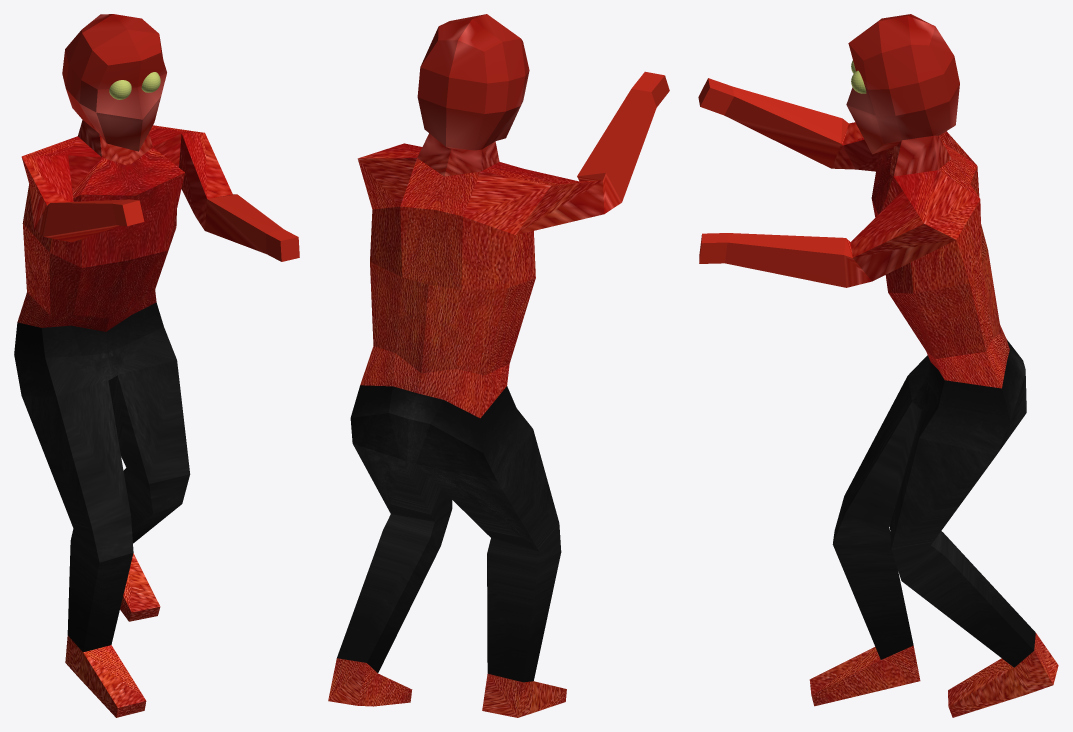
The model's file is laySheary_000007.obj.
3 views of the same model, side by side, from view 1: azimuth 30°, elevation 25°; view 2: azimuth 150°, elevation 25°; view 3: azimuth 270°, elevation 25° (orthographic). The views are drawn at different scales.
Parts seen in each view (by area): view 1: Cube; view 2: Cube; view 3: Cube.
Part boxes in pixels (x1,y1,x2,y2): Cube: (14, 14, 299, 717); Cube: (328, 14, 669, 717); Cube: (698, 14, 1058, 717).
Bounding box in the file's own units: 5.16 × 15.97 × 7.48.
3 materials, 2 textured.
